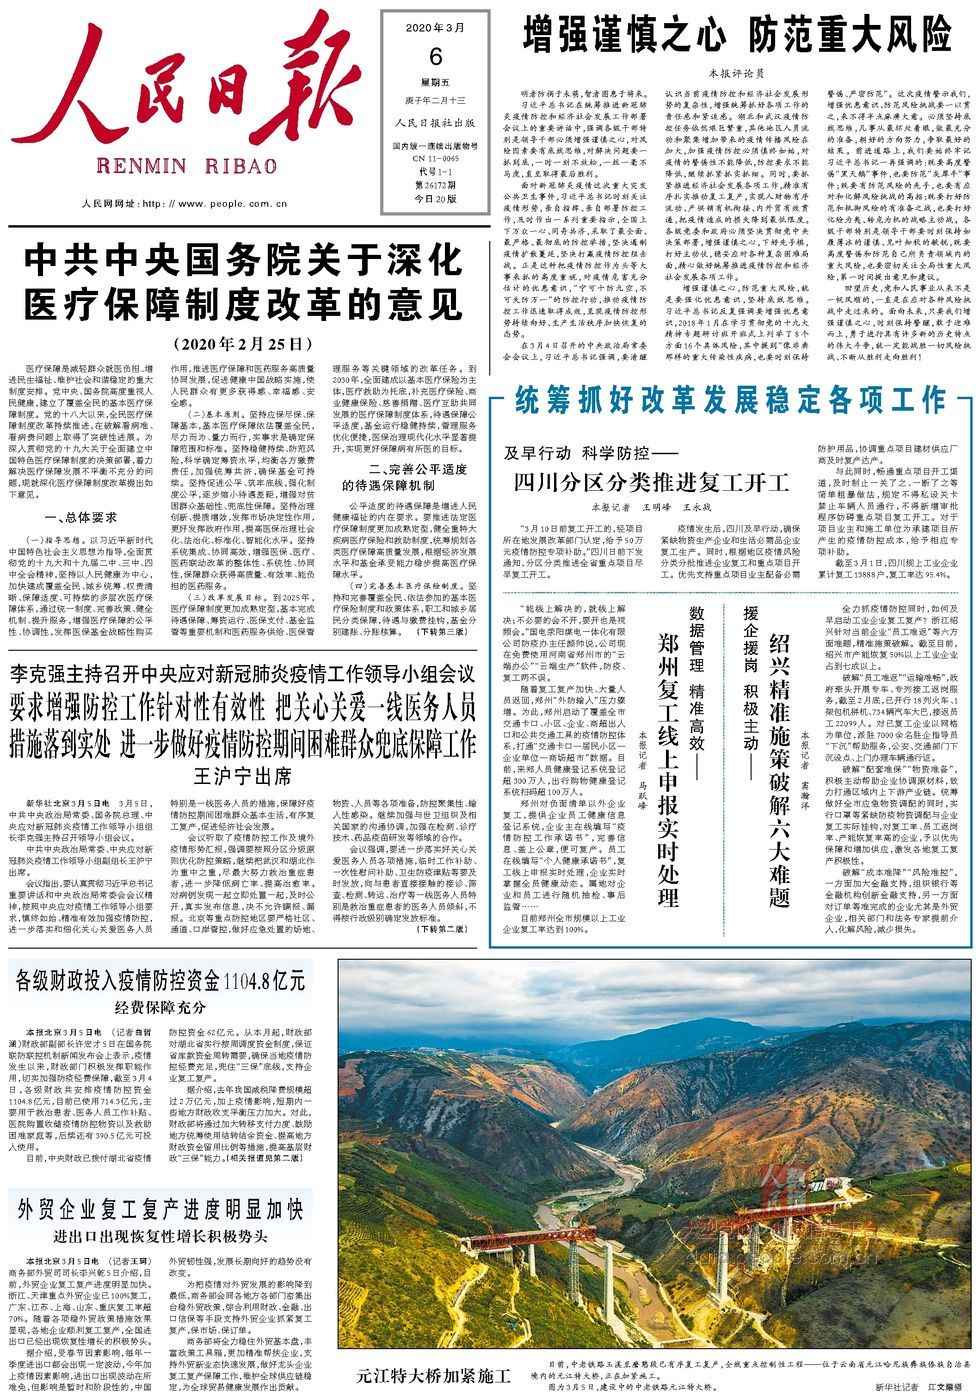pic: (334, 954, 977, 1353)
